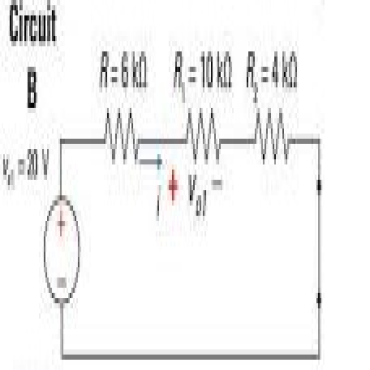Resistor: (171, 50, 233, 167), (245, 48, 298, 165), (98, 49, 144, 165)
Voltage Source: (1, 148, 82, 307)
